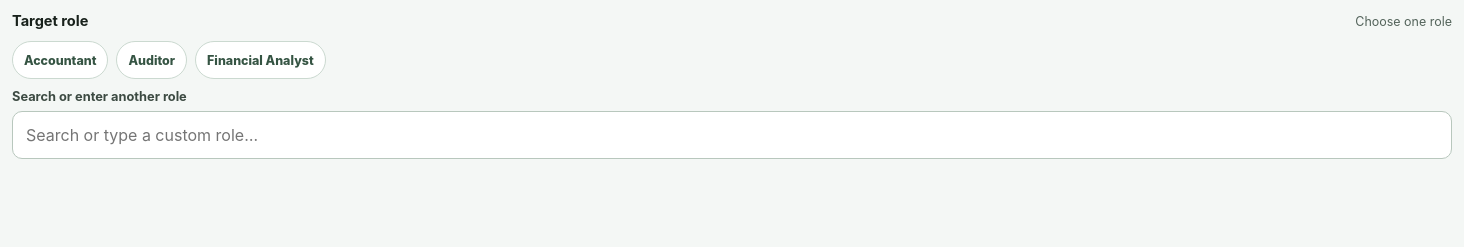
Scenario: InterviewRoleSelector › requires explicit adoption for a custom role
Type "Solutions Architect" into the dropdown labelled "Target role".
click(732, 135); type("Solutions Architect")  # box [12, 111, 1452, 159]
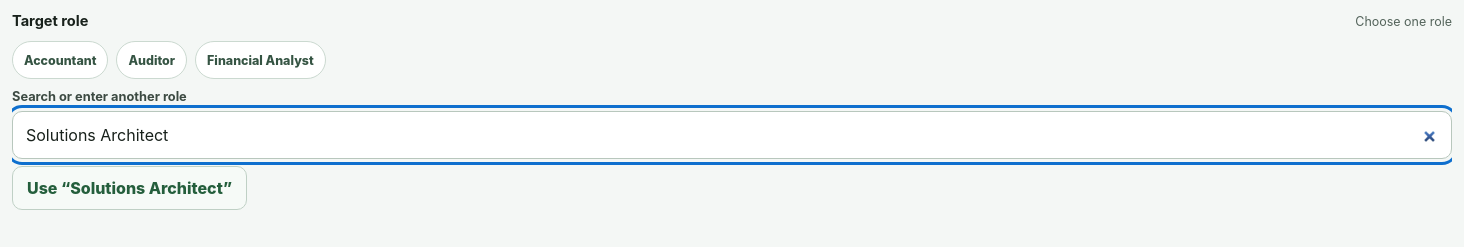
Click the button "Use “Solutions Architect”".
click(130, 188)  # box [12, 166, 247, 210]
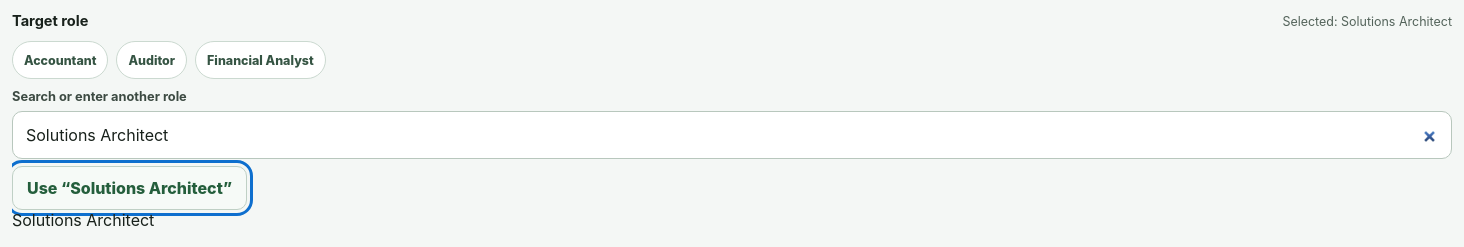
Expected: the text named "Selected role" reads "Solutions Architect", [12, 210, 154, 230]
